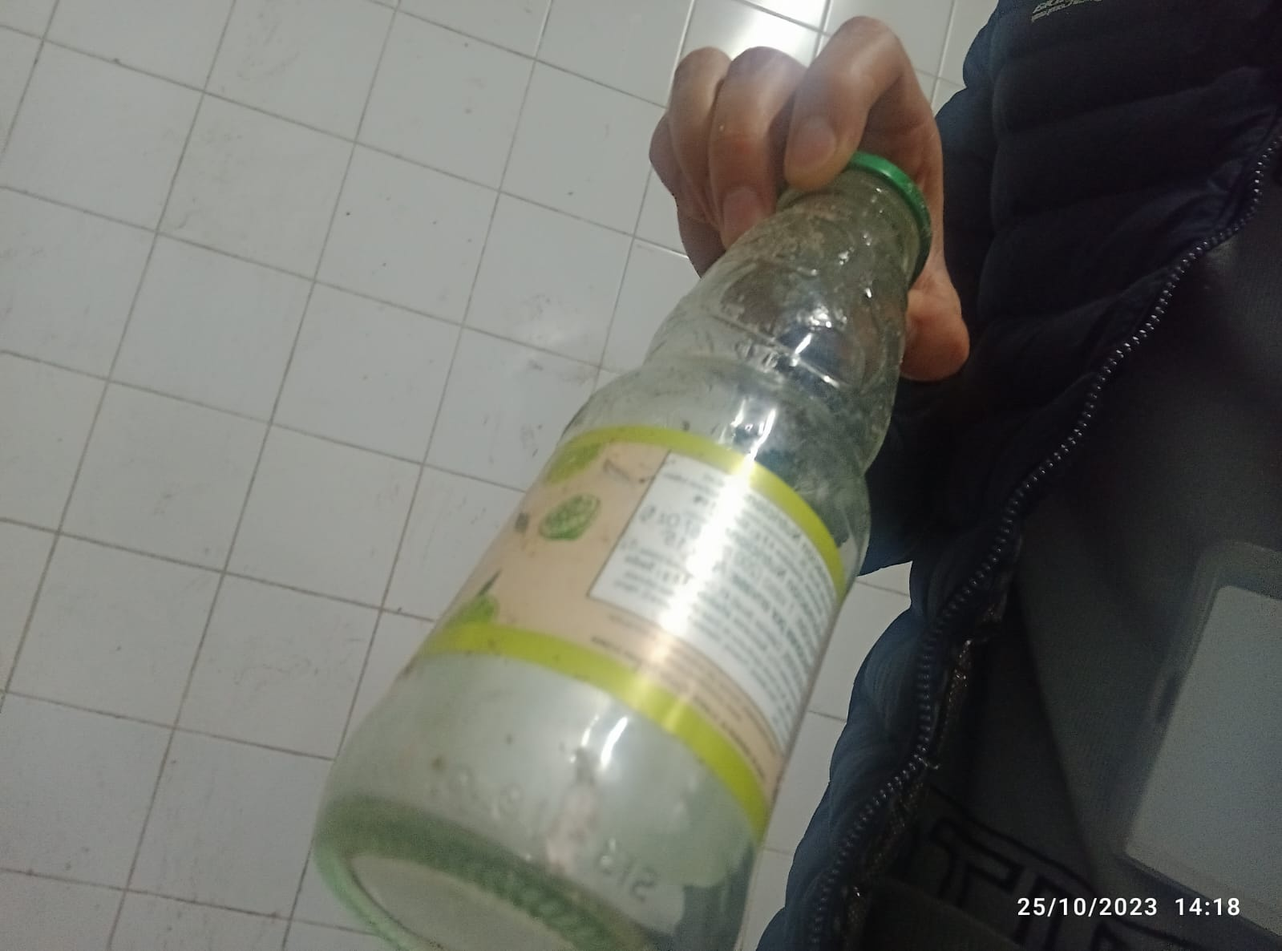Vidrio: (316, 146, 934, 946)
